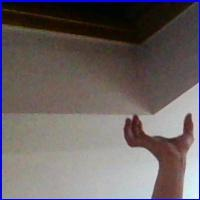space: (120, 110, 197, 159)
